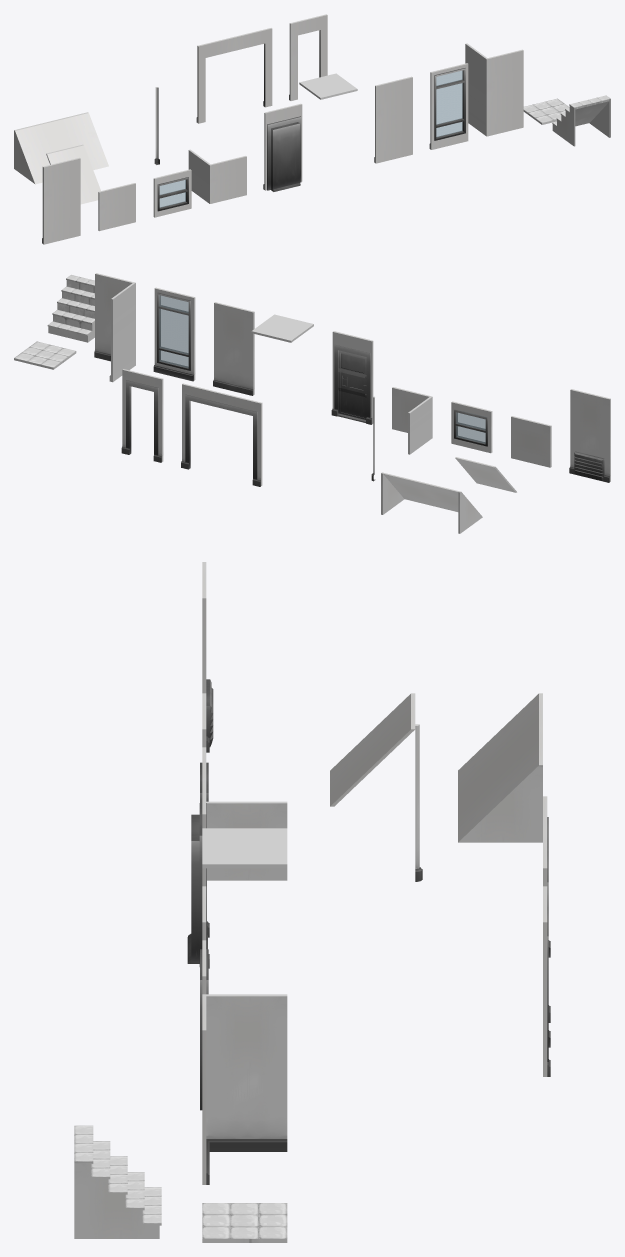
Rendered from GridAtlas.glb.
3 views of the same model, one above another, from view 1: azimuth 30°, elevation 25°; view 2: azimuth 150°, elevation 25°; view 3: azimuth 270°, elevation 25° (orthographic). The views are drawn at different scales.
Parts seen in each view (by area): view 1: Wall-Corner, Wall.001, Wall-WithWindow, Wall.003, Wall, Wall-Corner.001, SlopedWall.Corner, Stairs, SlopedWall.Corner.001, WallArch.way, Wall-WithWindow.001, Wall.002 (+5 smaller); view 2: Wall-Corner, Wall-WithWindow, Wall.001, Wall.003, Wall, Stairs, WallArch.way, Wall-Corner.001, Wall-WithWindow.001, Wall.002, SlopedWall.Corner.001, WallArch.way.RightHalf (+5 smaller); view 3: Wall-Corner, Stairs, SlopedWall.Corner.001, Ceiling, SlopedWall, Floor, Wall-Corner.001, SlopedWall.Corner, Wall.001, WallArch.way, Wall.003.
Boxes of the visible parts, <box> form: Wall-Corner: <box>465,43,523,136</box>; Wall.001: <box>263,103,302,191</box>; Wall-WithWindow: <box>429,63,468,149</box>; Wall.003: <box>42,157,80,244</box>; Wall: <box>374,76,412,163</box>; Wall-Corner.001: <box>188,149,246,203</box>; SlopedWall.Corner: <box>14,121,62,184</box>; Stairs: <box>552,95,610,146</box>; SlopedWall.Corner.001: <box>51,112,108,169</box>; WallArch.way: <box>289,14,327,100</box>; Wall-WithWindow.001: <box>153,169,191,217</box>; Wall.002: <box>98,183,135,230</box>; Wall-Corner: <box>94,273,135,382</box>; Wall-WithWindow: <box>153,287,195,381</box>; Wall.001: <box>331,331,373,424</box>; Wall.003: <box>569,389,610,482</box>; Wall: <box>213,302,254,395</box>; Stairs: <box>47,275,94,342</box>; WallArch.way: <box>121,369,163,462</box>; Wall-Corner.001: <box>392,387,432,454</box>; Wall-WithWindow.001: <box>451,401,492,453</box>; Wall.002: <box>511,416,551,467</box>; SlopedWall.Corner.001: <box>381,472,441,514</box>; WallArch.way.RightHalf: <box>221,393,262,486</box>; Wall-Corner: <box>202,994,287,1184</box>; Stairs: <box>74,1125,161,1238</box>; SlopedWall.Corner.001: <box>458,729,542,842</box>; Ceiling: <box>202,828,287,868</box>; SlopedWall: <box>330,693,415,806</box>; Floor: <box>202,1203,287,1242</box>; Wall-Corner.001: <box>206,801,287,880</box>; SlopedWall.Corner: <box>458,693,542,806</box>; Wall.001: <box>187,778,209,968</box>; WallArch.way: <box>543,886,550,1076</box>; Wall.003: <box>202,562,213,752</box>.
Size of the model in its own units: 29 by 4.2 by 11.18.
Materials: 5 (4 with a texture image).
